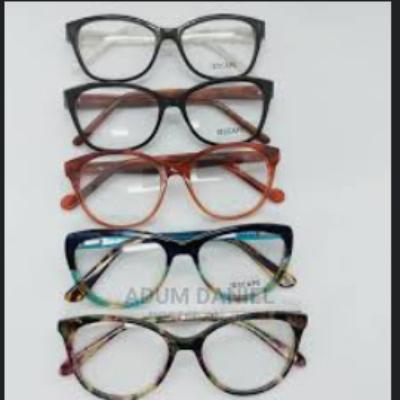glasses: (51, 310, 311, 399), (61, 223, 310, 311), (51, 146, 286, 229), (53, 78, 284, 151), (61, 11, 268, 81)
